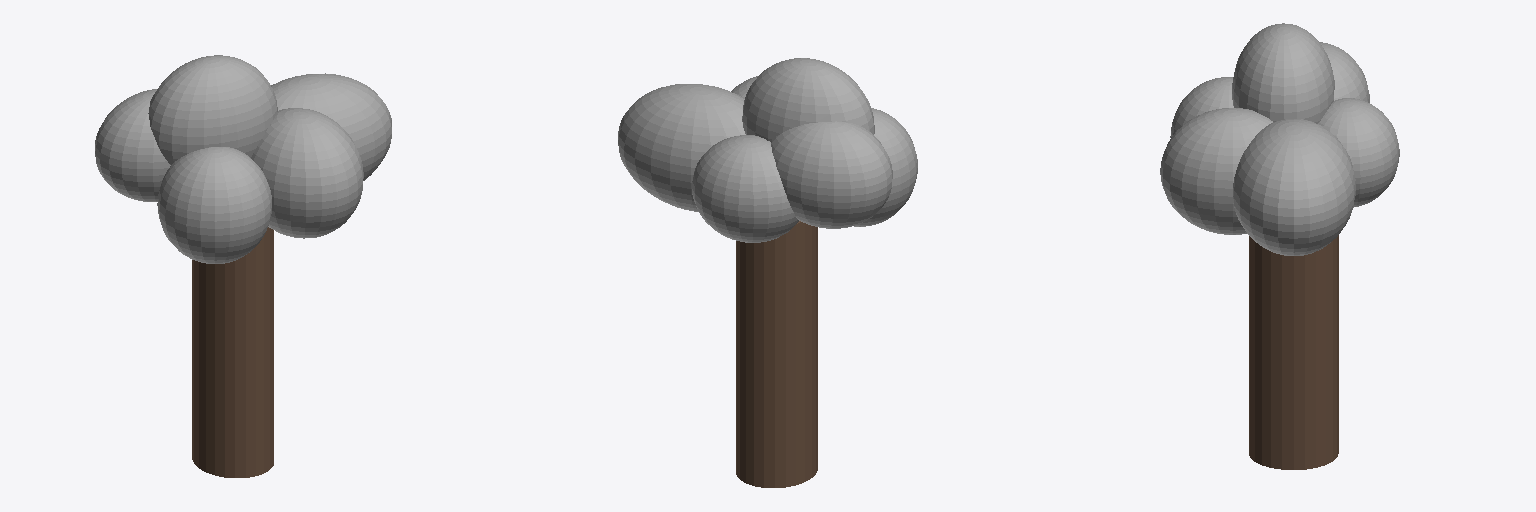
The model's file is attempt-of-making-a-tree.obj.
3 views of the same model, side by side, from view 1: azimuth 30°, elevation 25°; view 2: azimuth 150°, elevation 25°; view 3: azimuth 270°, elevation 25° (orthographic).
Visible parts, largest first — view 1: Cylinder, Sphere, Sphere1, Sphere5, Sphere4, Sphere3; view 2: Cylinder, Sphere4, Sphere3, Sphere2, Sphere5, Sphere1; view 3: Cylinder, Sphere4, Sphere, Sphere5, Sphere2, Sphere1, Sphere3.
Part boxes in pixels (bbox=[...]): Cylinder: bbox=[192, 227, 273, 477]; Sphere: bbox=[251, 108, 363, 238]; Sphere1: bbox=[157, 147, 271, 263]; Sphere5: bbox=[148, 55, 277, 164]; Sphere4: bbox=[271, 73, 391, 180]; Sphere3: bbox=[95, 89, 170, 201]; Cylinder: bbox=[736, 221, 817, 487]; Sphere4: bbox=[618, 84, 745, 211]; Sphere3: bbox=[771, 121, 892, 228]; Sphere2: bbox=[692, 135, 798, 242]; Sphere5: bbox=[742, 58, 874, 141]; Sphere1: bbox=[854, 108, 917, 226]; Cylinder: bbox=[1249, 235, 1338, 469]; Sphere4: bbox=[1233, 119, 1355, 255]; Sphere: bbox=[1160, 108, 1272, 234]; Sphere5: bbox=[1232, 23, 1334, 123]; Sphere2: bbox=[1318, 98, 1399, 207]; Sphere1: bbox=[1170, 77, 1233, 137]; Sphere3: bbox=[1319, 42, 1369, 102].
Size of the model in its own units: 3.98 by 5.67 by 3.